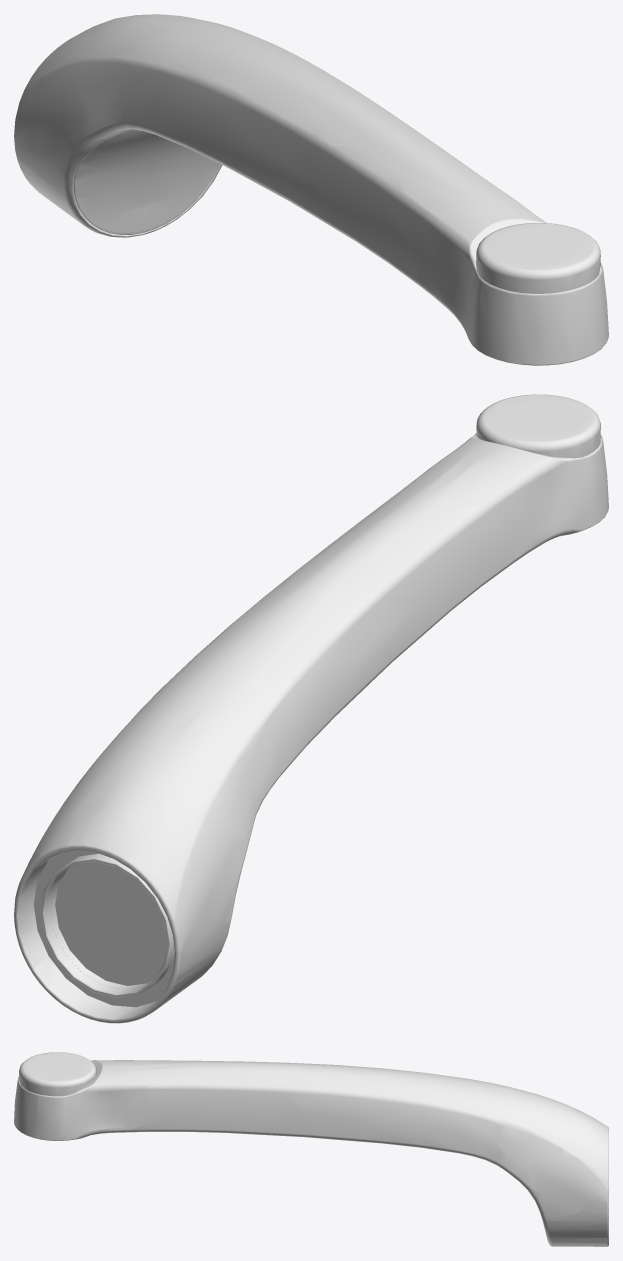
Rendered from Link4_body.glb.
3 renders of one model, top to bottom at view 1: azimuth 30°, elevation 25°; view 2: azimuth 150°, elevation 25°; view 3: azimuth 270°, elevation 25°, orthographic. The views are drawn at different scales.
Parts seen in each view (by area): view 1: Link4_body.STL; view 2: Link4_body.STL; view 3: Link4_body.STL.
Boxes of the visible parts, x1=… form: Link4_body.STL: x1=14, y1=14, x2=608, y2=365; Link4_body.STL: x1=14, y1=394, x2=608, y2=1023; Link4_body.STL: x1=14, y1=1052, x2=608, y2=1246.
Bounding box in the file's own units: 0.12 × 0.1958 × 0.597.
Materials: 1 (1 with a texture image).
